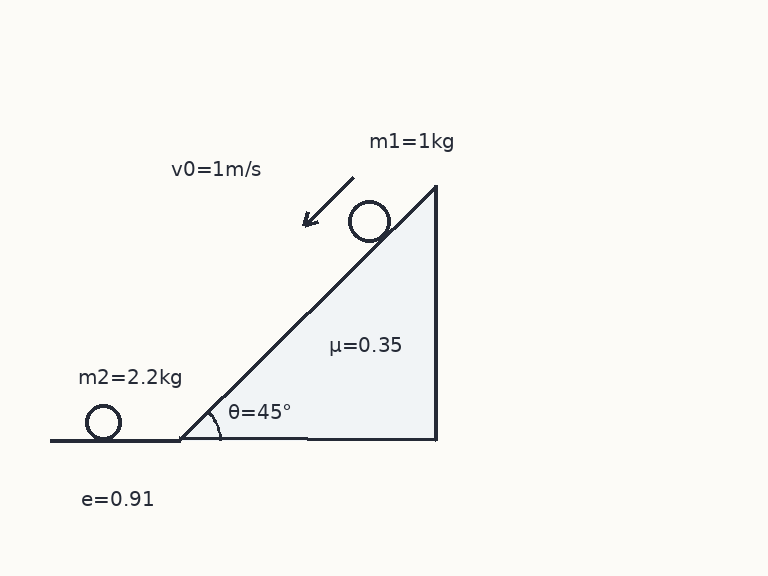ball: (346, 198, 392, 244), (83, 402, 123, 442)
ramp: (178, 183, 437, 442)
